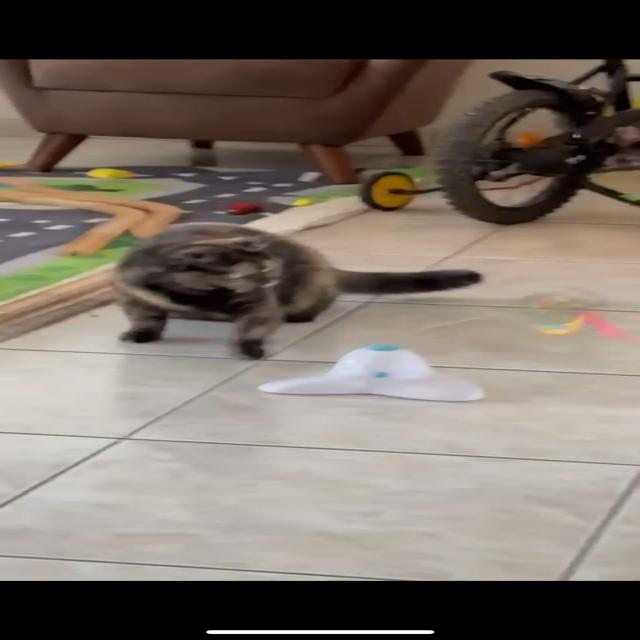authorized: (110, 221, 482, 360)
